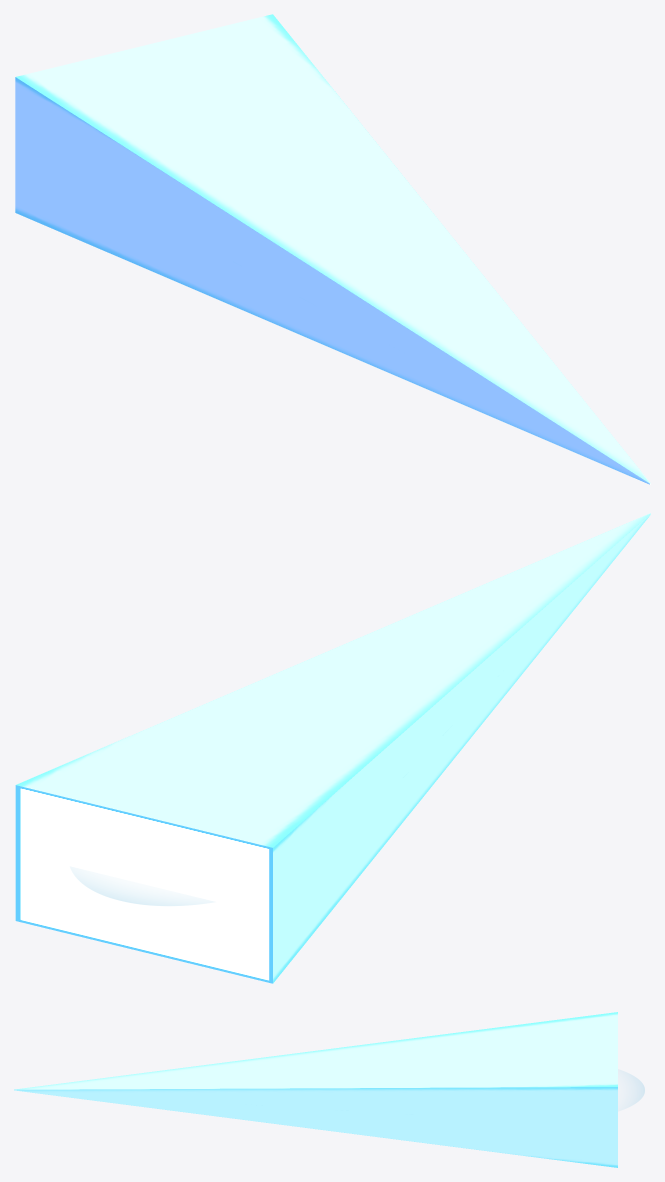
File: 视锥+雷达波v1.0.0.glb
3 renders of one model, top to bottom at view 1: azimuth 30°, elevation 25°; view 2: azimuth 150°, elevation 25°; view 3: azimuth 270°, elevation 25°, orthographic. The views are drawn at different scales.
Visible parts, largest first — view 1: 视锥; view 2: 视锥; view 3: 视锥.
Part boxes in pixels (box(x1,y1,x2,y2)): 视锥: box(15, 14, 650, 484); 视锥: box(15, 513, 650, 983); 视锥: box(14, 1012, 617, 1167).
Size of the model in its own units: 25.16 by 12.52 by 89.19.
Materials: 2 (2 with a texture image).
